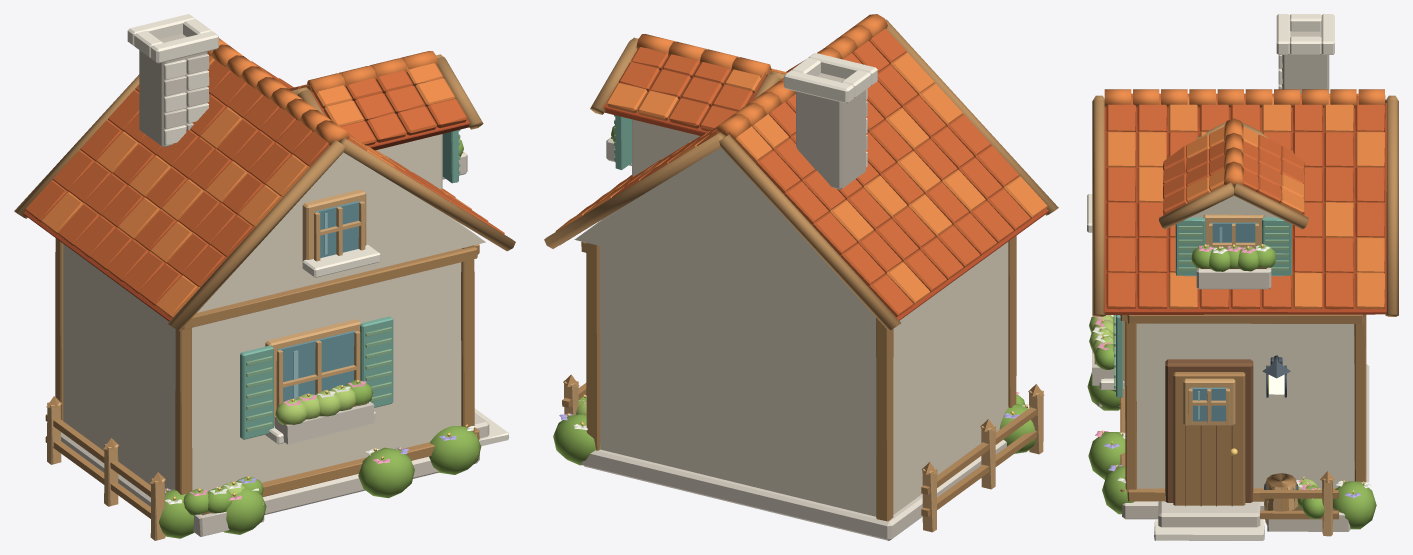
File: home_house.glb
3 renders of one model, left to right at view 1: azimuth 30°, elevation 25°; view 2: azimuth 150°, elevation 25°; view 3: azimuth 270°, elevation 25°, orthographic. The views are drawn at different scales.
Parts seen in each view (by area): view 1: structure.001, roof.001, gable_windows, dormer, garden, chimney, flower_boxes, entry_steps; view 2: structure.001, roof.001, dormer, chimney, garden; view 3: roof.001, structure.001, dormer, entry_door, garden, chimney, entry_steps, flower_boxes, gable_windows, entry_barrel, porch_light.
Part boxes in pixels (box(x1,y1,x2,y2)): structure.001: box(55, 238, 479, 514); roof.001: box(14, 38, 515, 330); gable_windows: box(240, 189, 393, 444); dormer: box(289, 51, 483, 189); garden: box(45, 396, 481, 540); chimney: box(127, 14, 218, 147); flower_boxes: box(274, 379, 374, 444); entry_steps: box(474, 408, 508, 446); structure.001: box(581, 236, 1016, 540); roof.001: box(544, 14, 1058, 330); dormer: box(590, 34, 787, 176); chimney: box(784, 53, 877, 189); garden: box(553, 374, 1044, 532); roof.001: box(1092, 89, 1398, 316); structure.001: box(1120, 314, 1369, 519); dormer: box(1159, 118, 1308, 289); entry_door: box(1165, 359, 1253, 506); garden: box(1087, 372, 1376, 536); chimney: box(1276, 14, 1334, 93); entry_steps: box(1154, 501, 1264, 540); flower_boxes: box(1089, 315, 1113, 385); gable_windows: box(1087, 194, 1125, 397); entry_barrel: box(1264, 473, 1298, 525); porch_light: box(1262, 355, 1290, 397).
Size of the model in its own units: 5.8 by 6.2 by 4.4.
